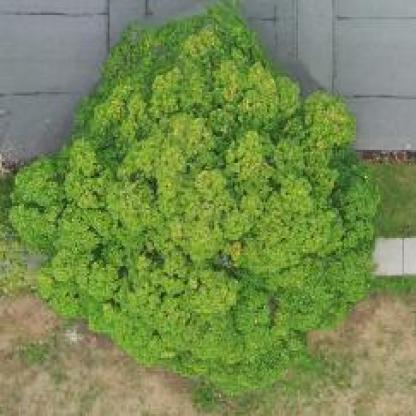Deciduous Tree: (4, 2, 391, 395)
